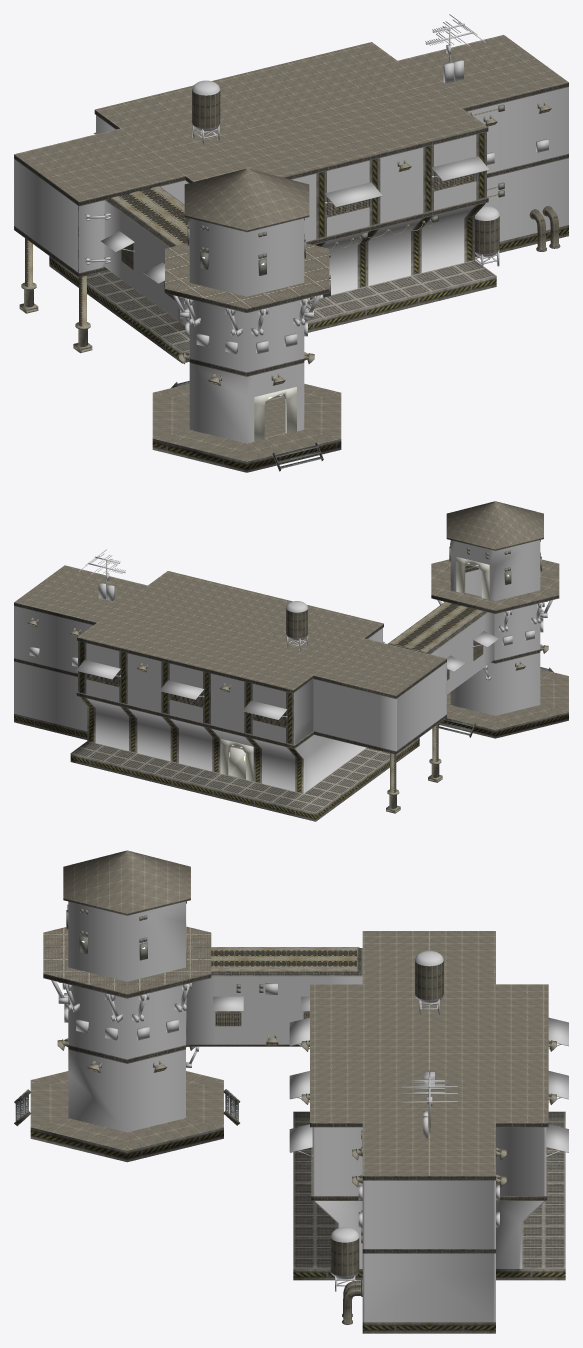
The model's file is tower_building_lod.fbx.
3 views of the same model, one above another, from view 1: azimuth 30°, elevation 25°; view 2: azimuth 150°, elevation 25°; view 3: azimuth 270°, elevation 25° (orthographic). The views are drawn at different scales.
Parts seen in each view (by area): view 1: Mesh (2); view 2: Mesh (2); view 3: Mesh (2).
Boxes of the visible parts, <box> form: Mesh (2): <box>14,14,568,472</box>; Mesh (2): <box>14,501,568,821</box>; Mesh (2): <box>14,850,568,1333</box>.
Size of the model in its own units: 2496 by 1162 by 2204.
